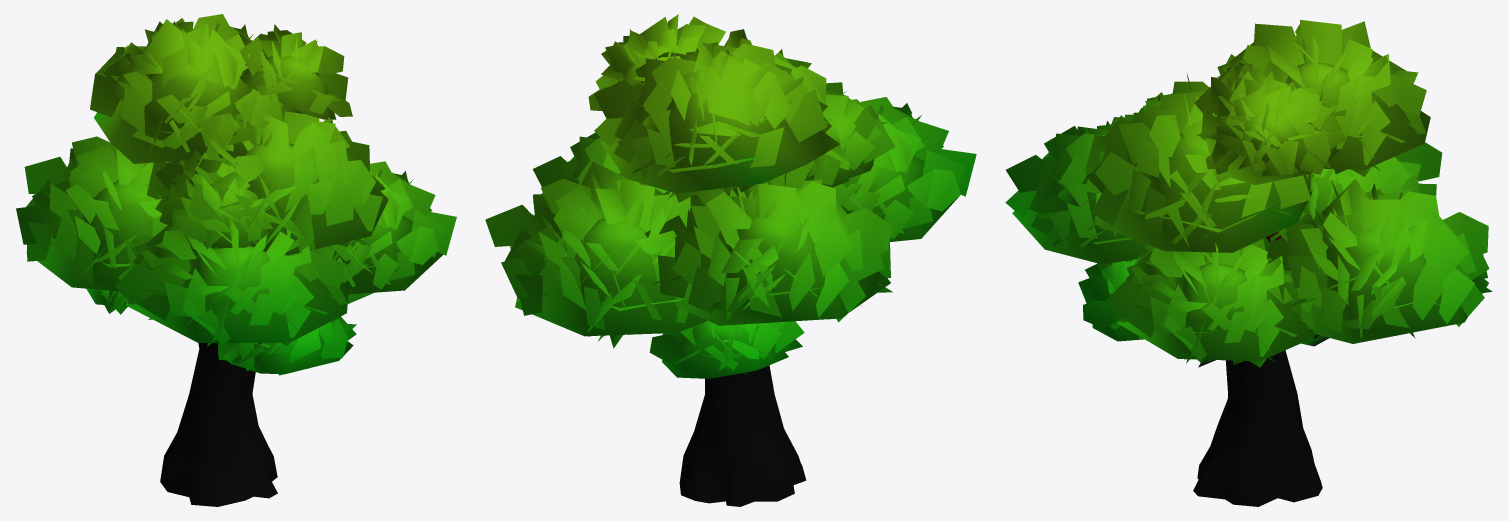
The model's file is tree.glb.
3 renders of one model, left to right at view 1: azimuth 30°, elevation 25°; view 2: azimuth 150°, elevation 25°; view 3: azimuth 270°, elevation 25°, orthographic. The views are drawn at different scales.
Visible parts, largest first — view 1: tree_1_LOD0; view 2: tree_1_LOD0; view 3: tree_1_LOD0.
Boxes of the visible parts, x1=… form: tree_1_LOD0: x1=16, y1=14, x2=456, y2=506; tree_1_LOD0: x1=485, y1=14, x2=976, y2=506; tree_1_LOD0: x1=1005, y1=20, x2=1492, y2=506.
Size of the model in its own units: 13.8 by 16.13 by 15.62.
